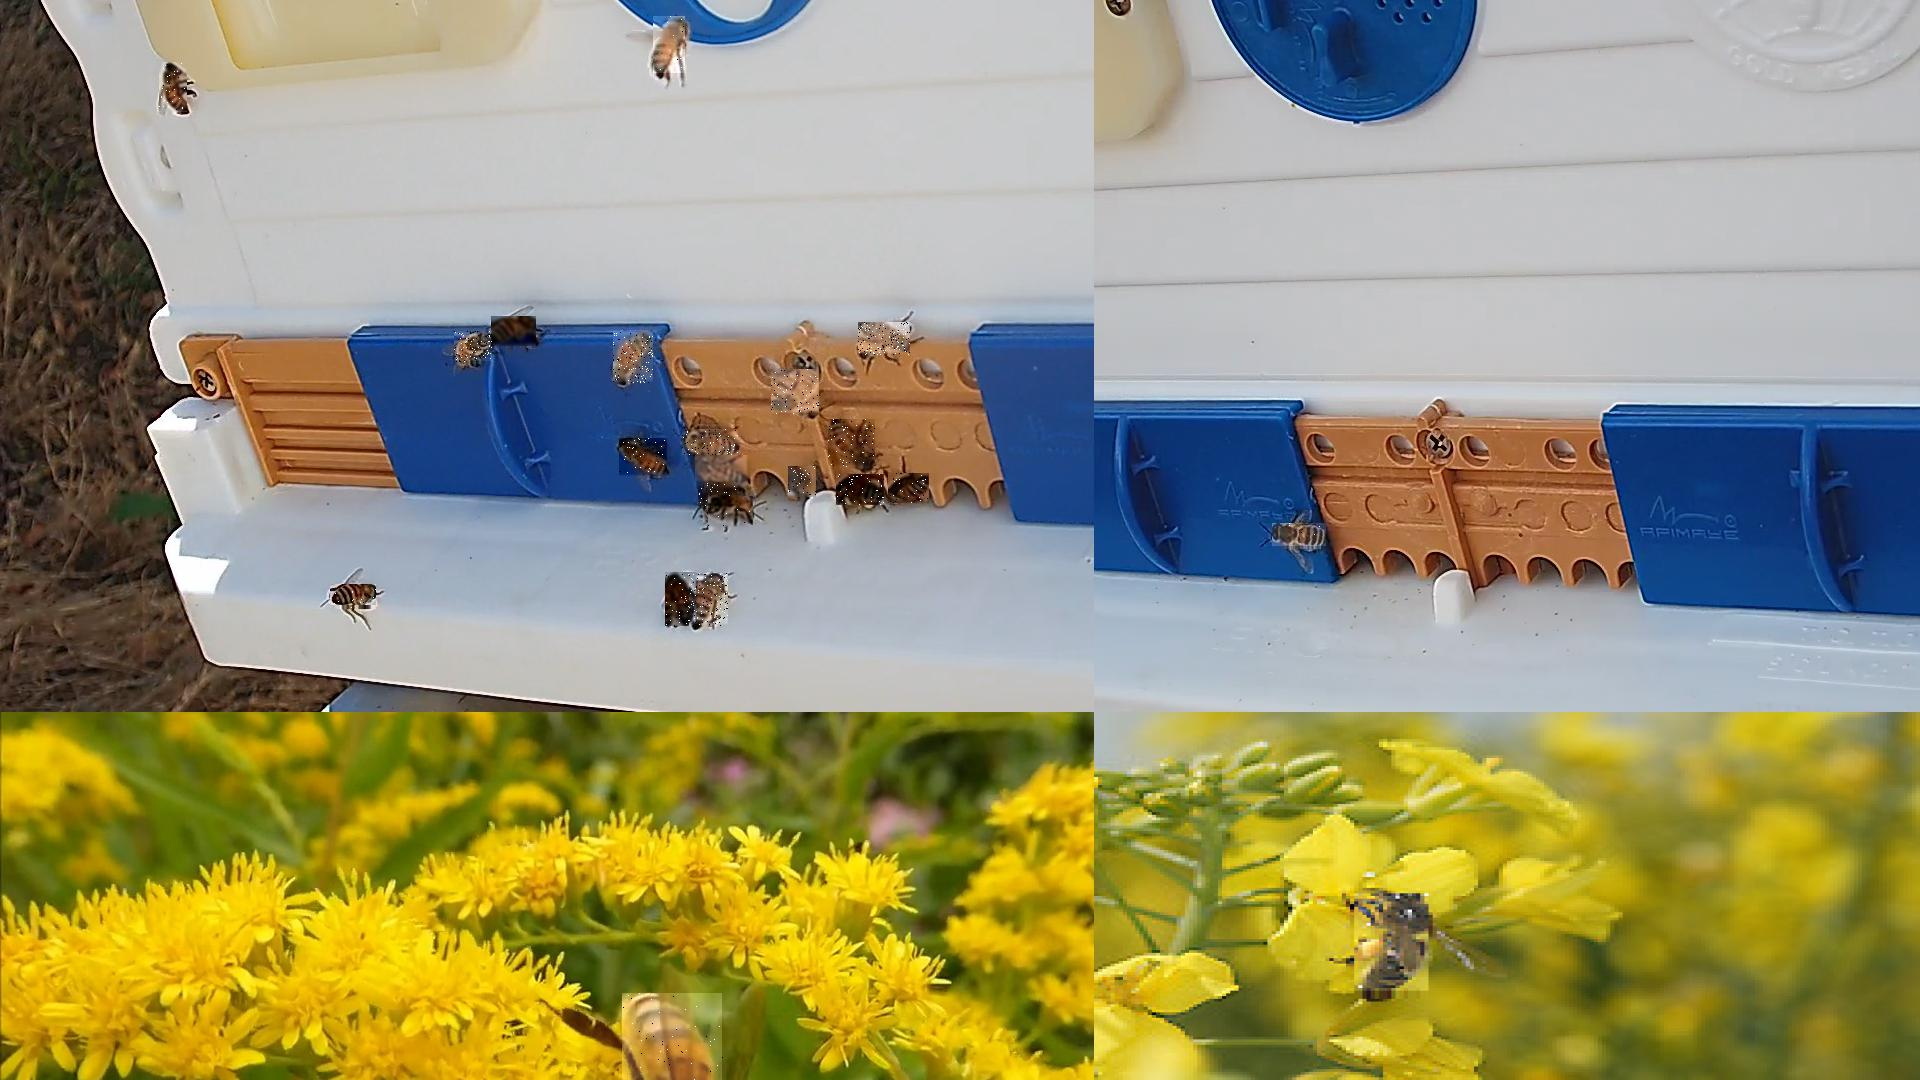bee: (622, 993, 727, 1079), (828, 419, 877, 469), (771, 369, 820, 415), (613, 332, 654, 385), (690, 574, 729, 628), (653, 17, 686, 76), (620, 439, 669, 479), (696, 456, 752, 491), (665, 572, 698, 628), (858, 323, 911, 357), (682, 429, 740, 456), (708, 497, 754, 531), (491, 316, 537, 349), (160, 63, 189, 115), (1273, 524, 1328, 550), (454, 332, 493, 365), (889, 473, 931, 504), (330, 584, 377, 609), (698, 484, 738, 509), (789, 467, 818, 500)
pollenbee: (1354, 895, 1433, 1001), (836, 473, 885, 506)
